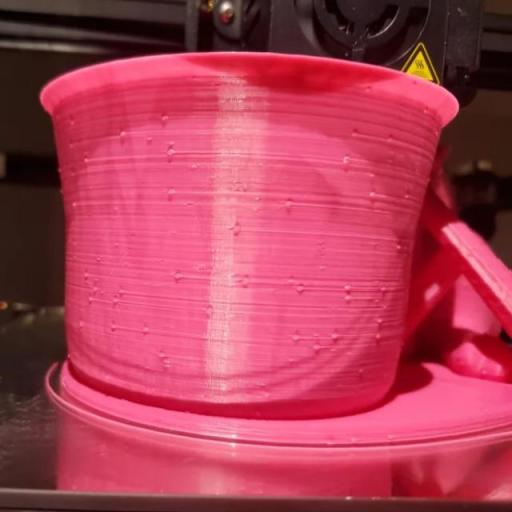blobs: (282, 196, 298, 214), (162, 185, 180, 200), (164, 146, 177, 161), (341, 292, 356, 305), (240, 276, 252, 290), (290, 330, 302, 344), (294, 283, 306, 296), (340, 281, 354, 292), (118, 128, 130, 140), (115, 288, 128, 299), (328, 330, 342, 340), (159, 114, 171, 124), (374, 315, 386, 325), (378, 283, 388, 295), (312, 342, 324, 352), (160, 359, 170, 371), (92, 284, 102, 294), (369, 188, 378, 199), (86, 294, 94, 306), (141, 328, 152, 336), (107, 323, 119, 330), (374, 331, 382, 341), (110, 298, 120, 306), (158, 352, 168, 360), (71, 201, 79, 210)
